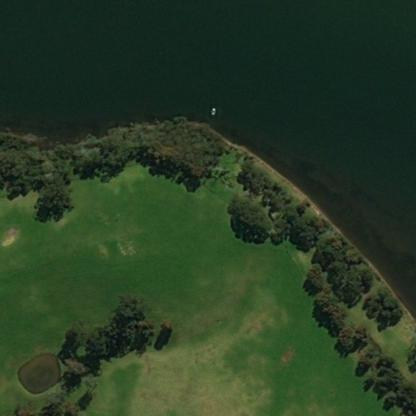ship: (206, 102, 222, 118)
